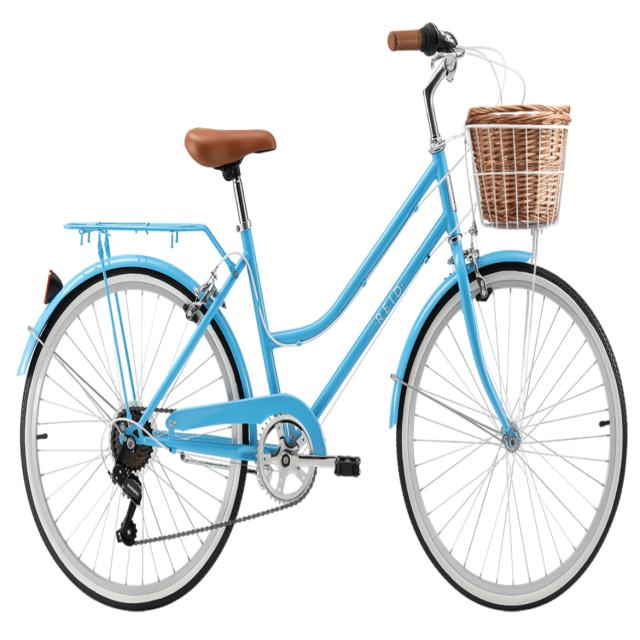urban-bike: (16, 19, 629, 614)
